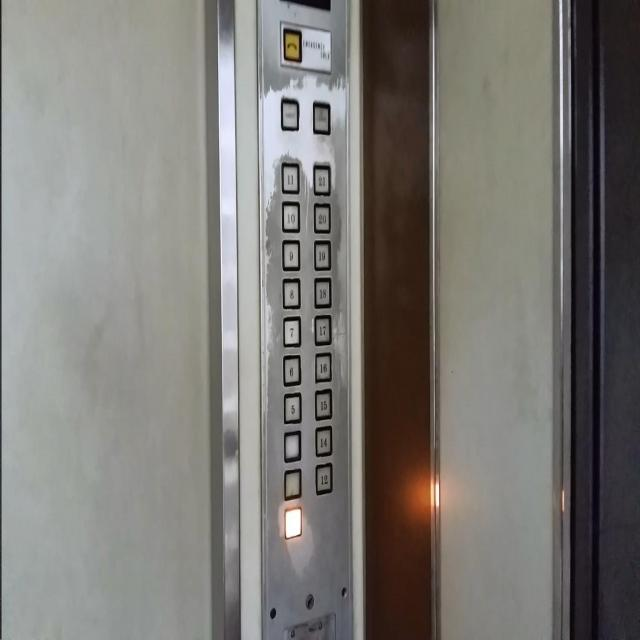10: (281, 200, 300, 233)
11: (281, 162, 300, 193)
114: (314, 424, 332, 458)
12: (314, 462, 332, 496)
15: (314, 388, 332, 421)
16: (314, 352, 332, 382)
17: (313, 313, 332, 346)
18: (314, 277, 332, 308)
19: (313, 237, 332, 271)
20: (313, 200, 331, 233)
21: (313, 162, 331, 196)
5: (283, 393, 302, 424)
6: (283, 354, 301, 386)
7: (283, 315, 301, 347)
8: (282, 277, 300, 309)
9: (281, 238, 300, 270)
call: (283, 24, 302, 63)
empty: (284, 467, 302, 501), (284, 505, 302, 539), (283, 430, 302, 462)
keyhole: (304, 592, 315, 610)
text_blur: (280, 95, 300, 131), (311, 98, 330, 134)
